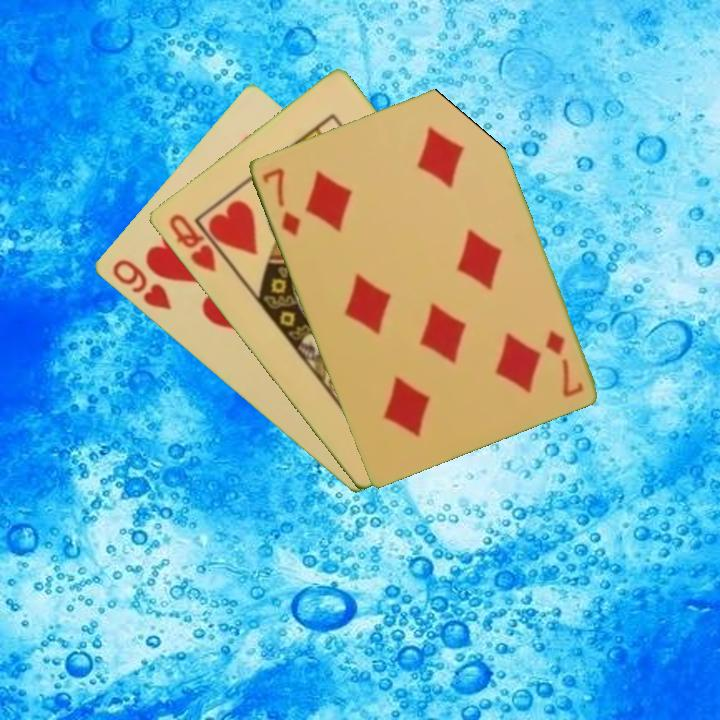7d: (258, 163, 304, 239), (541, 326, 586, 400)
9h: (108, 255, 174, 314)
Qh: (164, 210, 219, 276)
